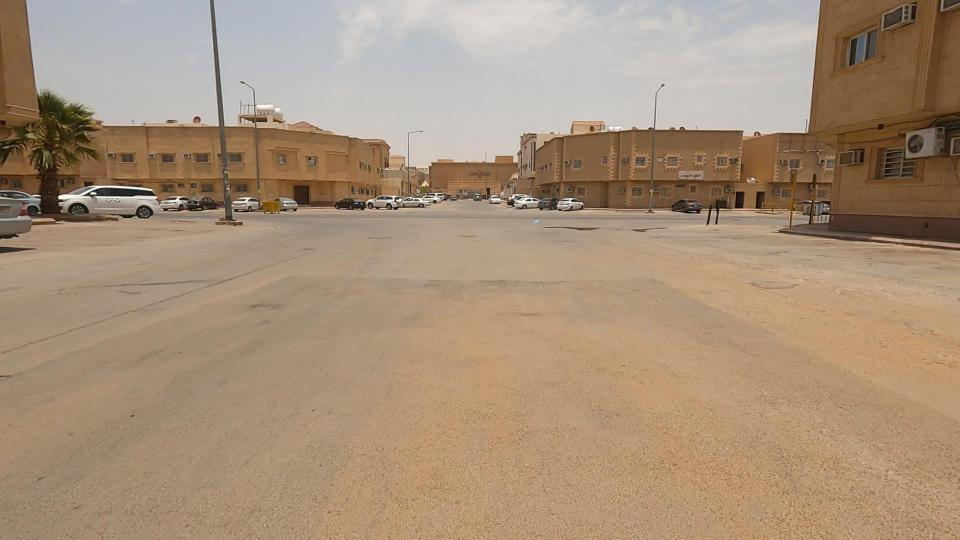GARBAGE: (517, 204, 555, 237)
POTHOLES: (540, 215, 632, 244), (610, 216, 685, 249)
